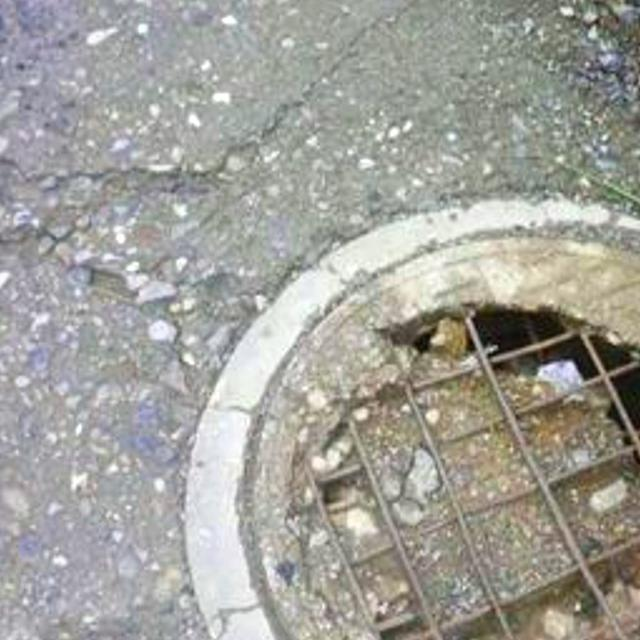broke: (182, 192, 640, 640)
